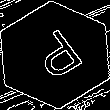P_SE: (22, 24, 88, 86)
